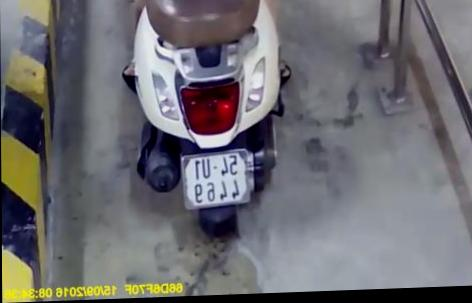License_Plate: (179, 147, 255, 214)
